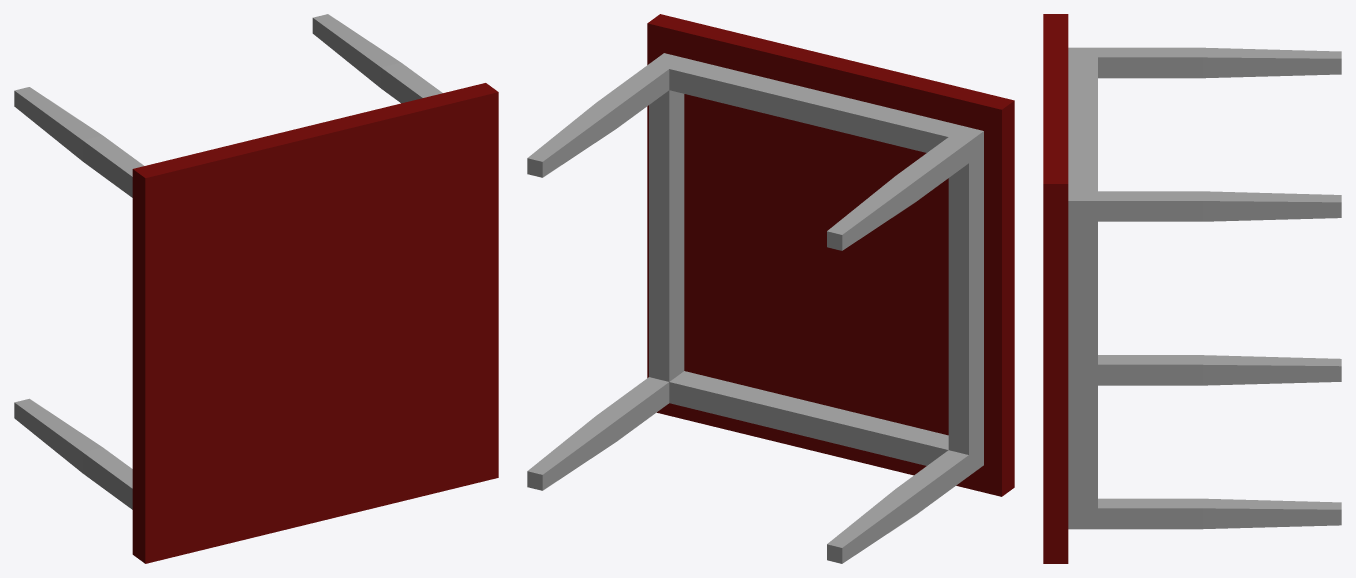
File: table.obj
3 renders of one model, left to right at view 1: azimuth 30°, elevation 25°; view 2: azimuth 150°, elevation 25°; view 3: azimuth 270°, elevation 25°, orthographic.
Parts seen in each view (by area): view 1: Cube.150_Cube.178_basic_1, Cube.150_Cube.178_basic_2; view 2: Cube.150_Cube.178_basic_1, Cube.150_Cube.178_basic_2; view 3: Cube.150_Cube.178_basic_2, Cube.150_Cube.178_basic_1.
Part boxes in pixels (x1,y1,x2,y2): Cube.150_Cube.178_basic_1: [132, 83, 498, 563]; Cube.150_Cube.178_basic_2: [14, 14, 442, 509]; Cube.150_Cube.178_basic_1: [647, 14, 1014, 496]; Cube.150_Cube.178_basic_2: [527, 53, 983, 563]; Cube.150_Cube.178_basic_2: [1068, 47, 1341, 529]; Cube.150_Cube.178_basic_1: [1043, 14, 1068, 563].
Size of the model in its own units: 0.1765 by 0.1842 by 0.1311.
